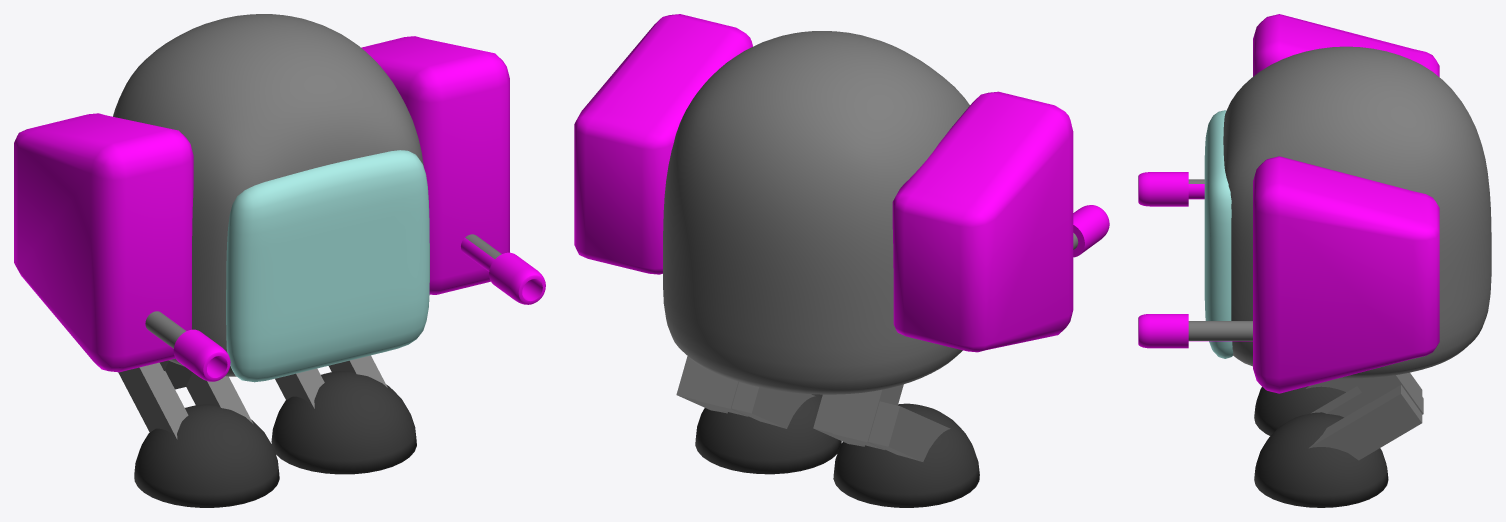
The model's file is Goliath.fbx.
The picture shows the model from 3 angles, left to right: view 1: azimuth 30°, elevation 25°; view 2: azimuth 150°, elevation 25°; view 3: azimuth 270°, elevation 25°; orthographic projection. The views are drawn at different scales.
Parts seen in each view (by area): view 1: Cube.040, Cube.038, Cube.039, Cube.041, Cube.043, Cylinder.011; view 2: Cube.038, Cube.040, Cube.041, Cube.043, Cube.042, Cylinder.011; view 3: Cube.040, Cube.038, Cube.041, Cube.039, Cube.043, Cylinder.011, Cube.042.
Boxes of the visible parts, x1=… form: Cube.040: x1=14, y1=36, x2=509, y2=372; Cube.038: x1=113, y1=14, x2=423, y2=376; Cube.039: x1=226, y1=150, x2=429, y2=382; Cube.041: x1=134, y1=371, x2=416, y2=507; Cube.043: x1=118, y1=355, x2=387, y2=439; Cylinder.011: x1=145, y1=234, x2=545, y2=381; Cube.038: x1=663, y1=31, x2=969, y2=394; Cube.040: x1=574, y1=14, x2=1073, y2=352; Cube.041: x1=695, y1=394, x2=979, y2=507; Cube.043: x1=676, y1=356, x2=950, y2=461; Cube.042: x1=696, y1=368, x2=903, y2=449; Cylinder.011: x1=1073, y1=205, x2=1109, y2=257; Cube.040: x1=1253, y1=14, x2=1439, y2=393; Cube.038: x1=1223, y1=46, x2=1491, y2=378; Cube.041: x1=1254, y1=386, x2=1388, y2=507; Cube.039: x1=1204, y1=110, x2=1233, y2=358; Cube.043: x1=1306, y1=372, x2=1422, y2=460; Cylinder.011: x1=1138, y1=172, x2=1252, y2=348; Cube.042: x1=1352, y1=373, x2=1423, y2=414.
Size of the model in its own units: 193 by 187 by 155.
